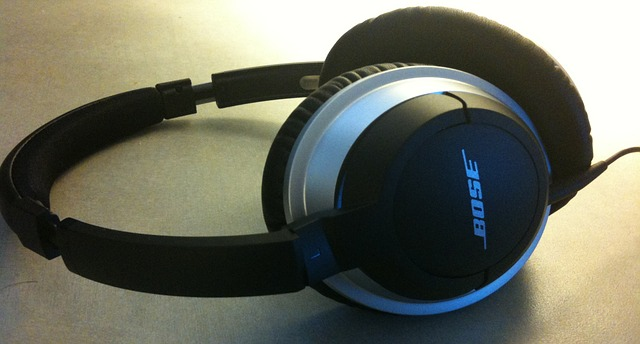headphones: (1, 7, 594, 318)
